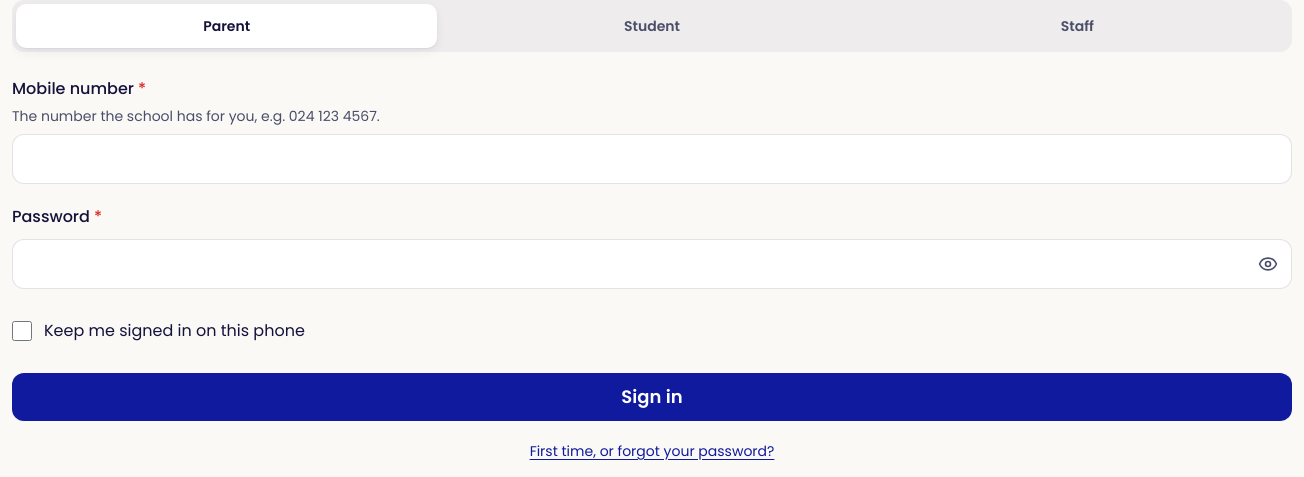
Test: sign-in form › moves between tabs with the arrow keys
Click the tab "Parent".
click(227, 26)  # box [16,4,437,48]
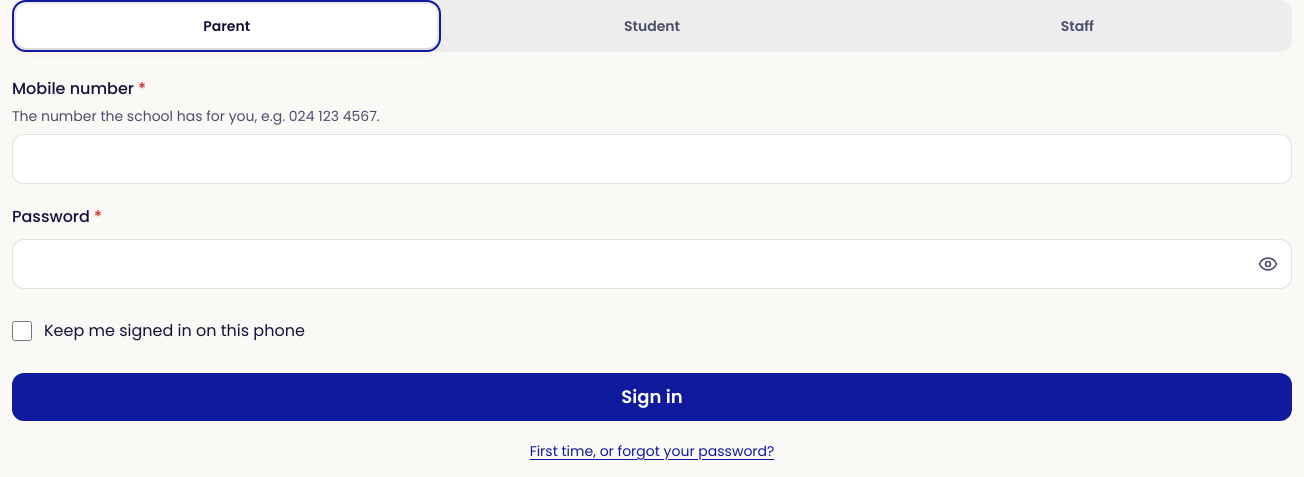
Press Arrowleft
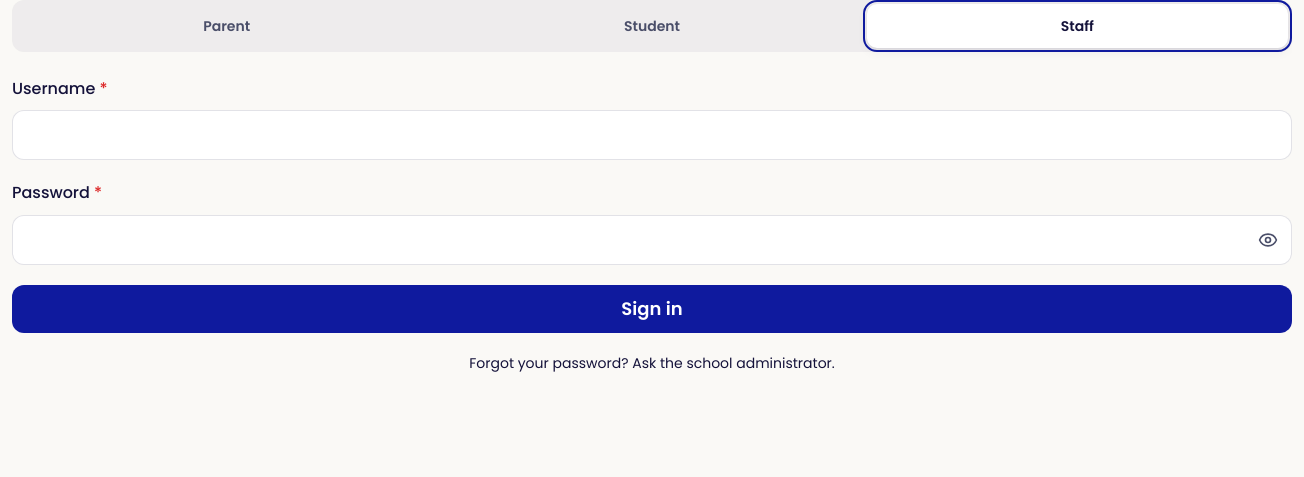
Expected: the field labelled "Username *" is shown, [12,110,1292,160]
Expected: the label labelled "Keep me signed in" is gone
